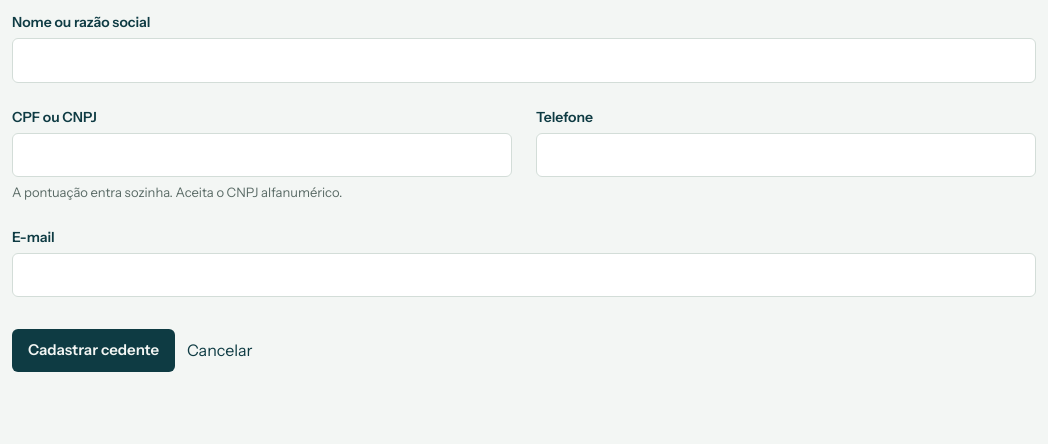
Scenario: AssignorForm › bloqueia o envio e aponta os campos obrigatórios
Click the button "Cadastrar cedente".
click(94, 350)  # box [12,329,175,372]
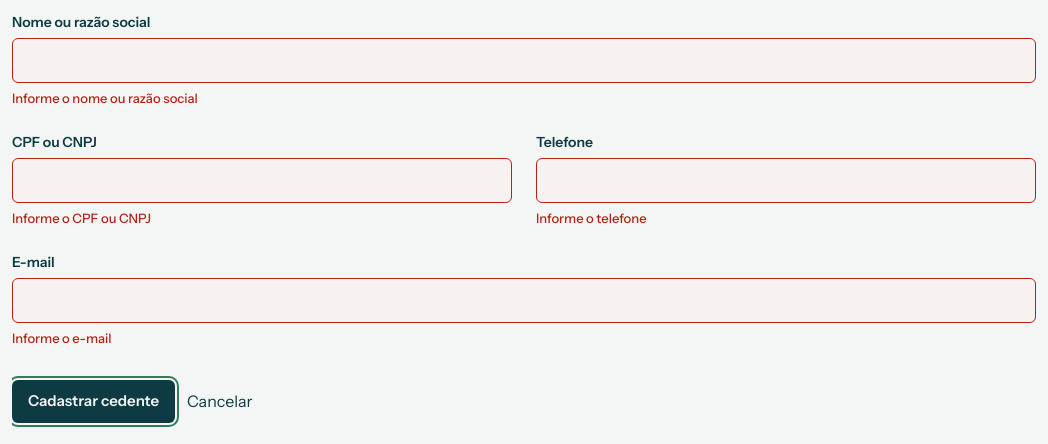
Result: the text "Informe o nome ou razão social" is shown at [12,90,198,106]
Result: the text "Informe o CPF ou CNPJ" is shown at [12,210,151,226]
Result: the text "Informe o telefone" is shown at [536,210,646,226]
